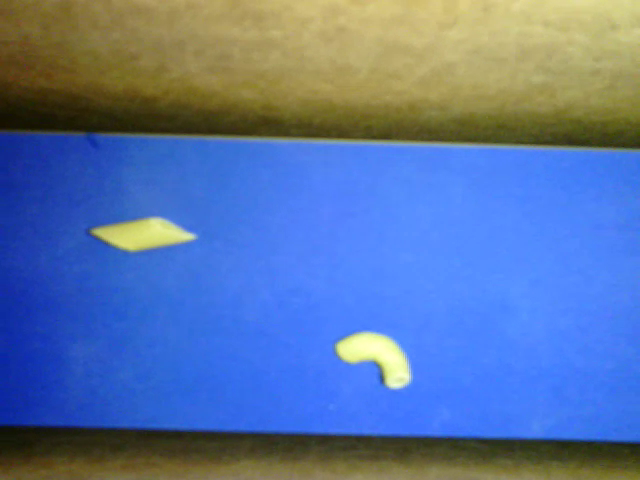elbow: (335, 330, 412, 391)
penne: (89, 215, 197, 253)
